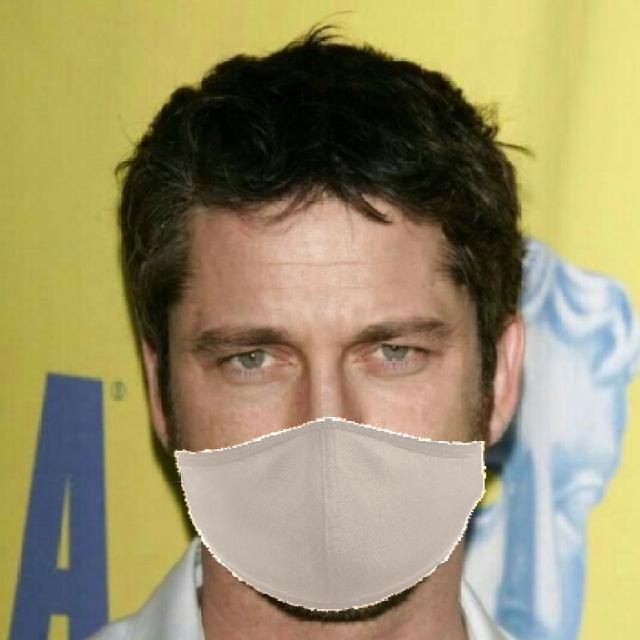mask: (149, 412, 501, 612)
